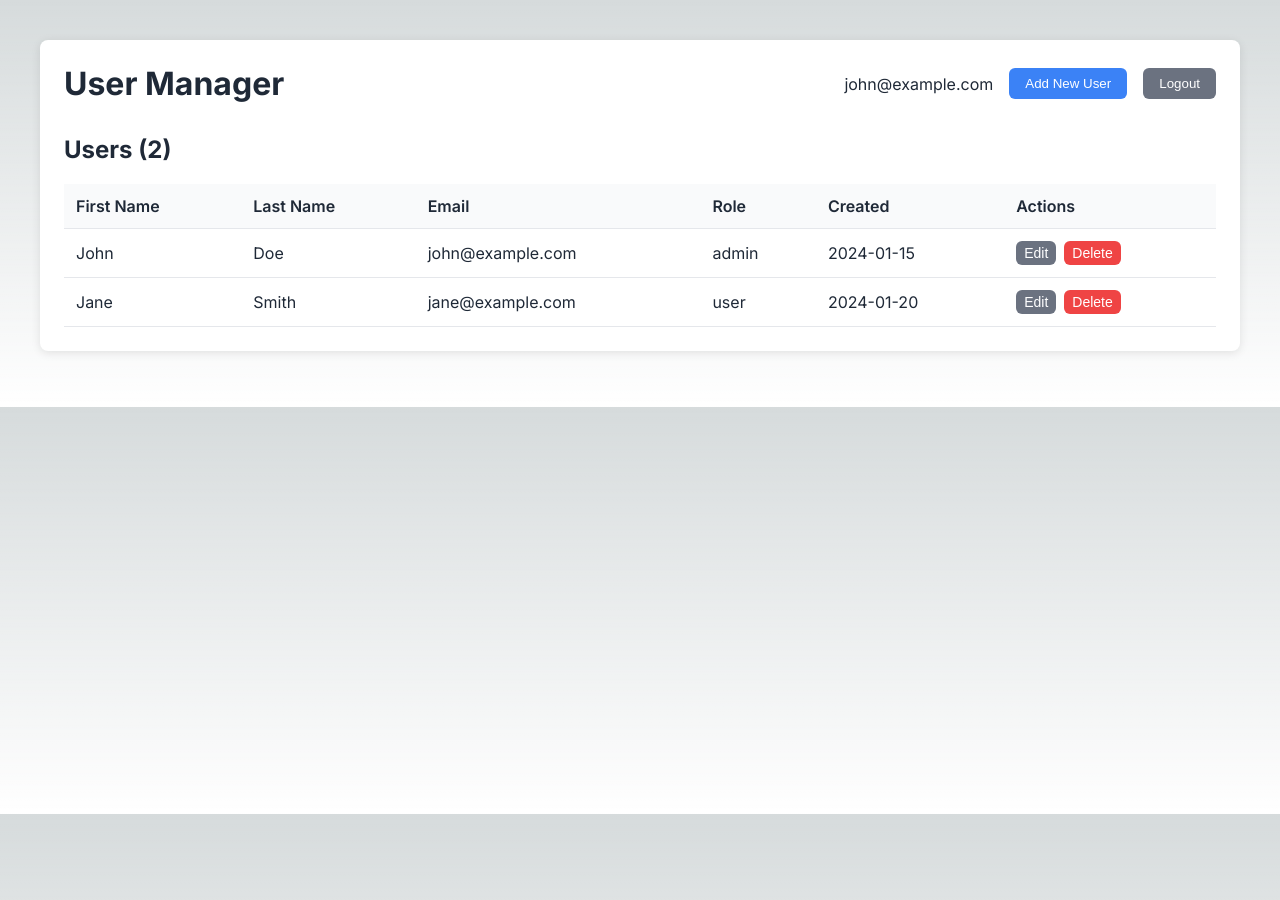
Home Page › when authenticated › can add a new user
This screenshot has width=1280, height=900.
Expected: the text "John" is shown, [64,228,241,277]
Click the button "Add New User" at point(1068, 84), box [1009,68,1127,99]
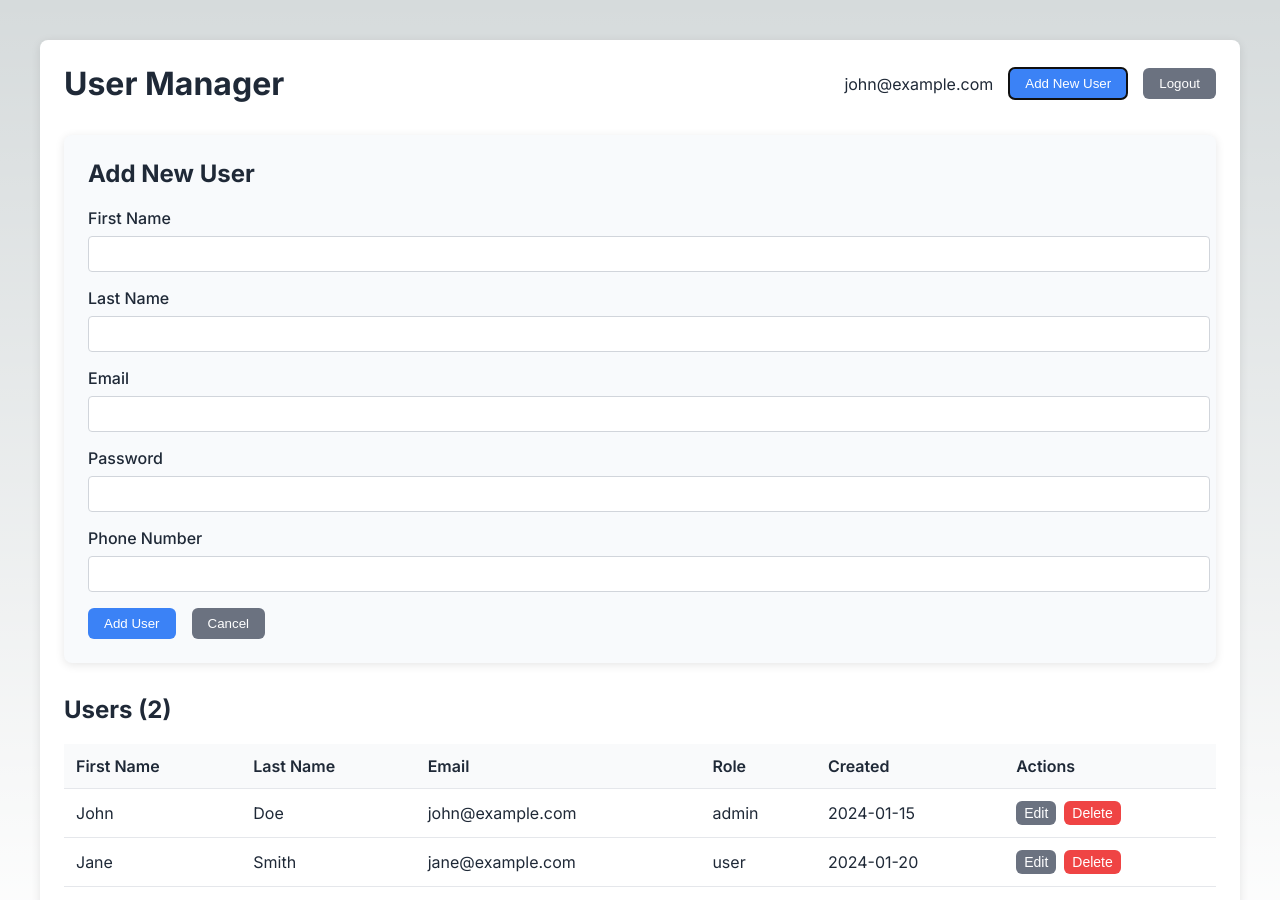
Type "Test" into the field labelled "First Name" at point(649, 254), box [88,236,1210,272]
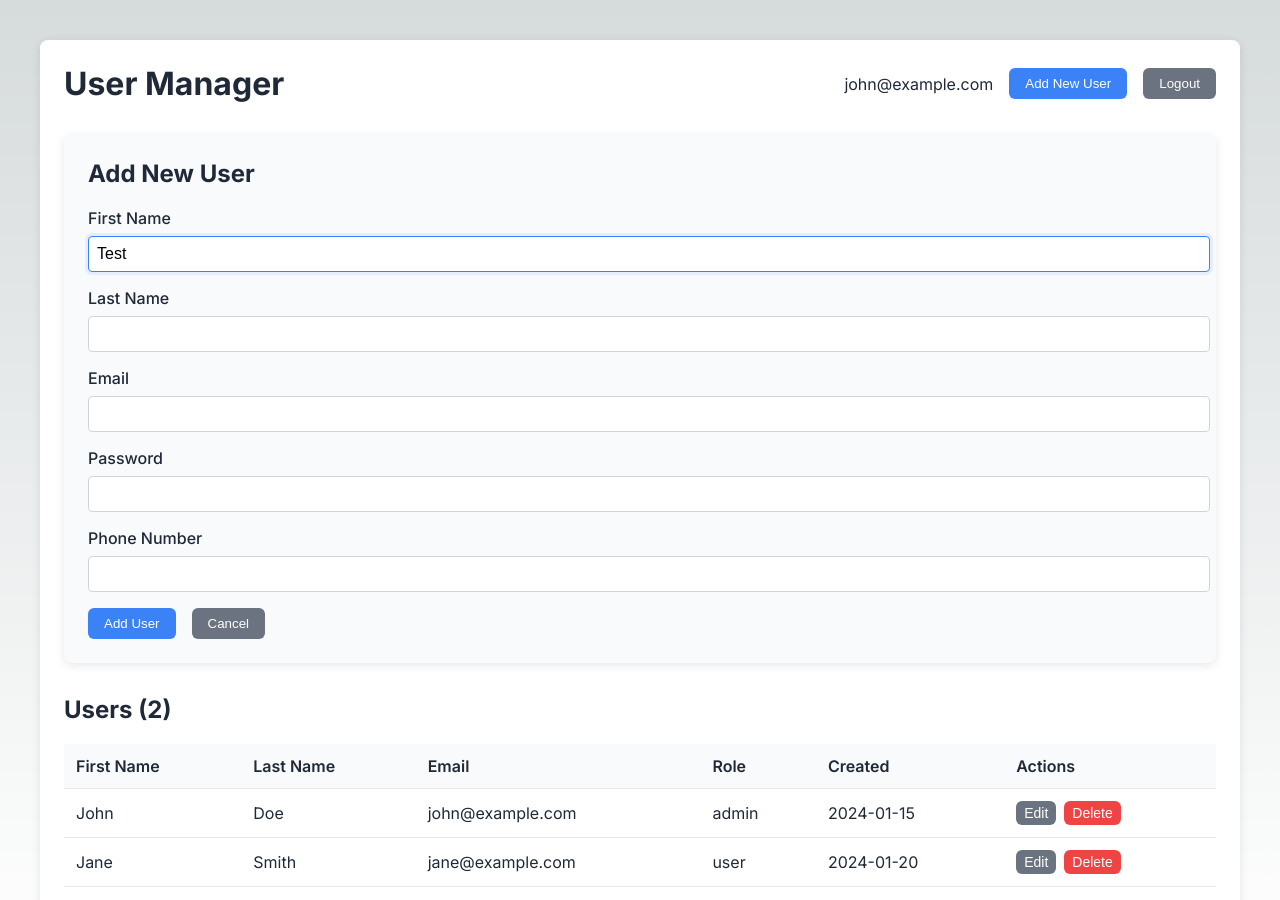
Type "User" into the field labelled "Last Name" at point(649, 334), box [88,316,1210,352]
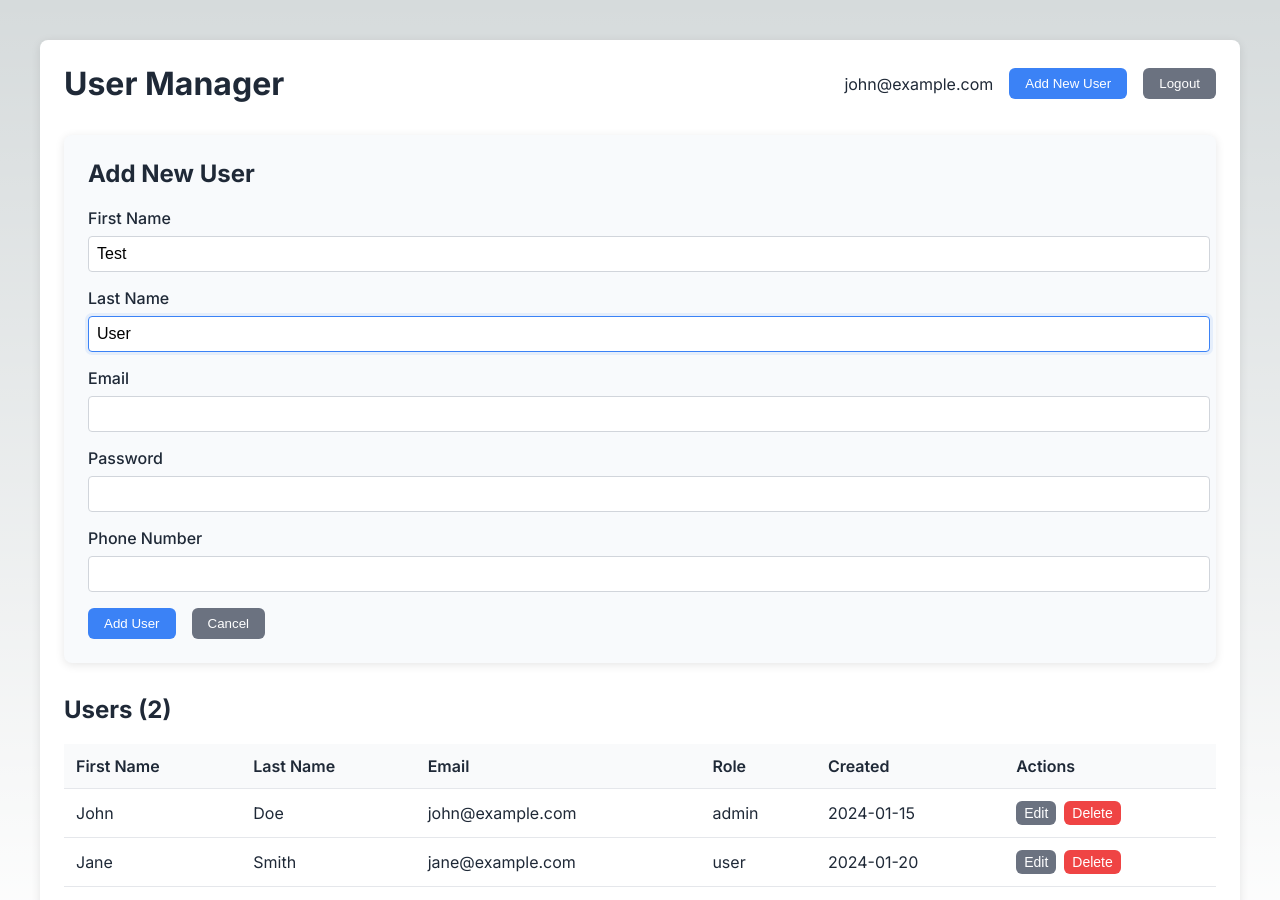
Type "test@example.com" into the field labelled "Email" at point(649, 414), box [88,396,1210,432]
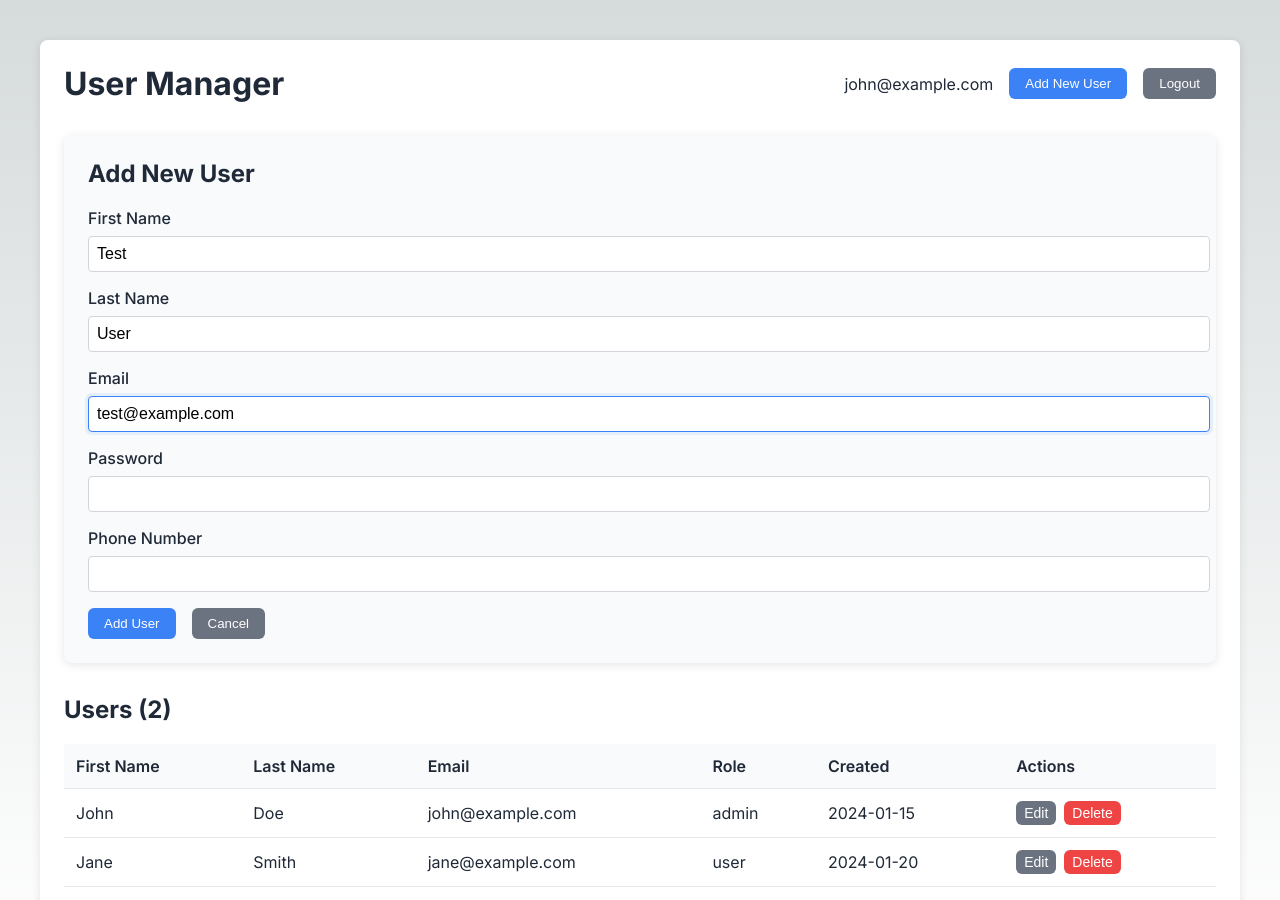
Type "secret123" into the password field labelled "Password" at point(649, 494), box [88,476,1210,512]
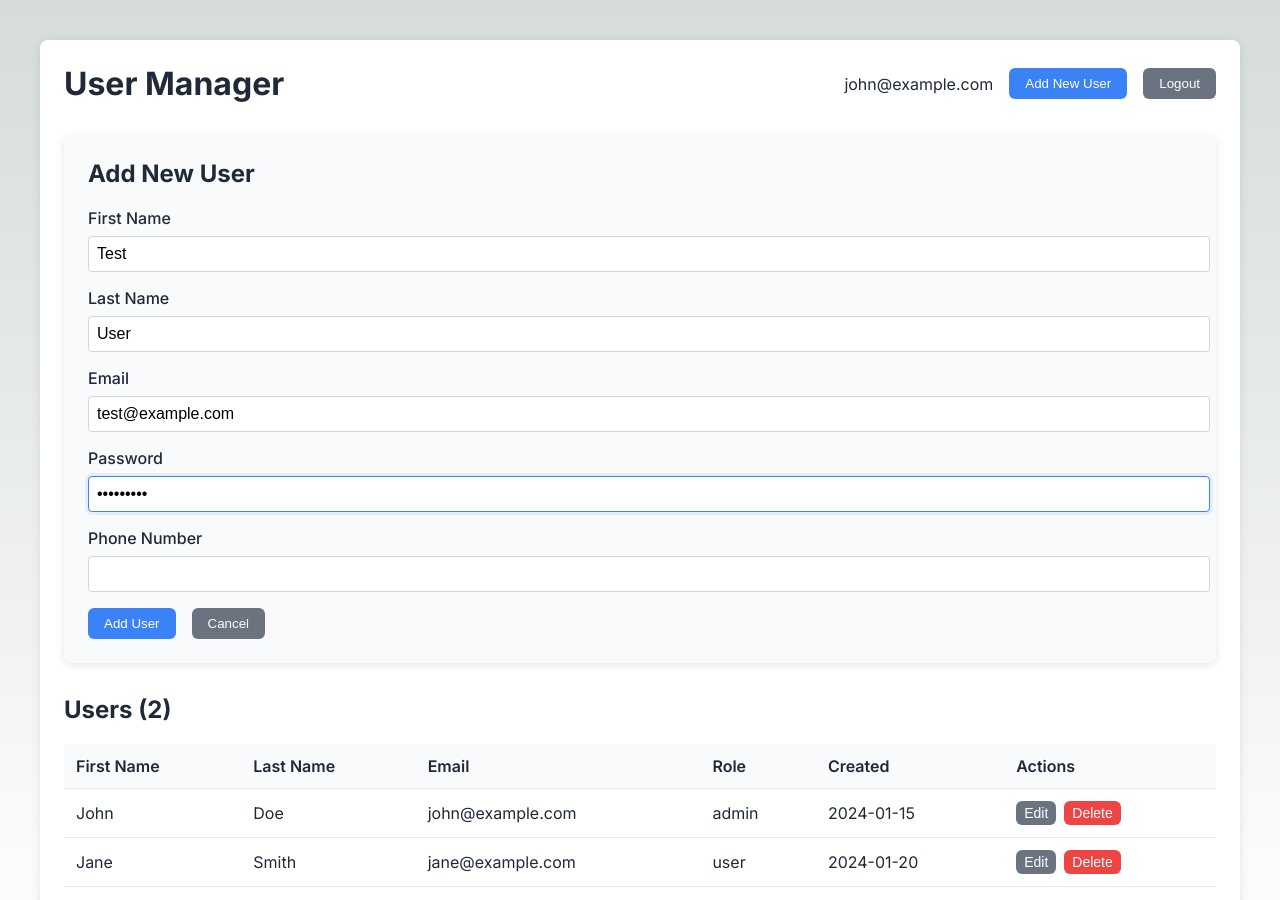
Click the button "Add User" at point(132, 623), box [88,608,176,639]
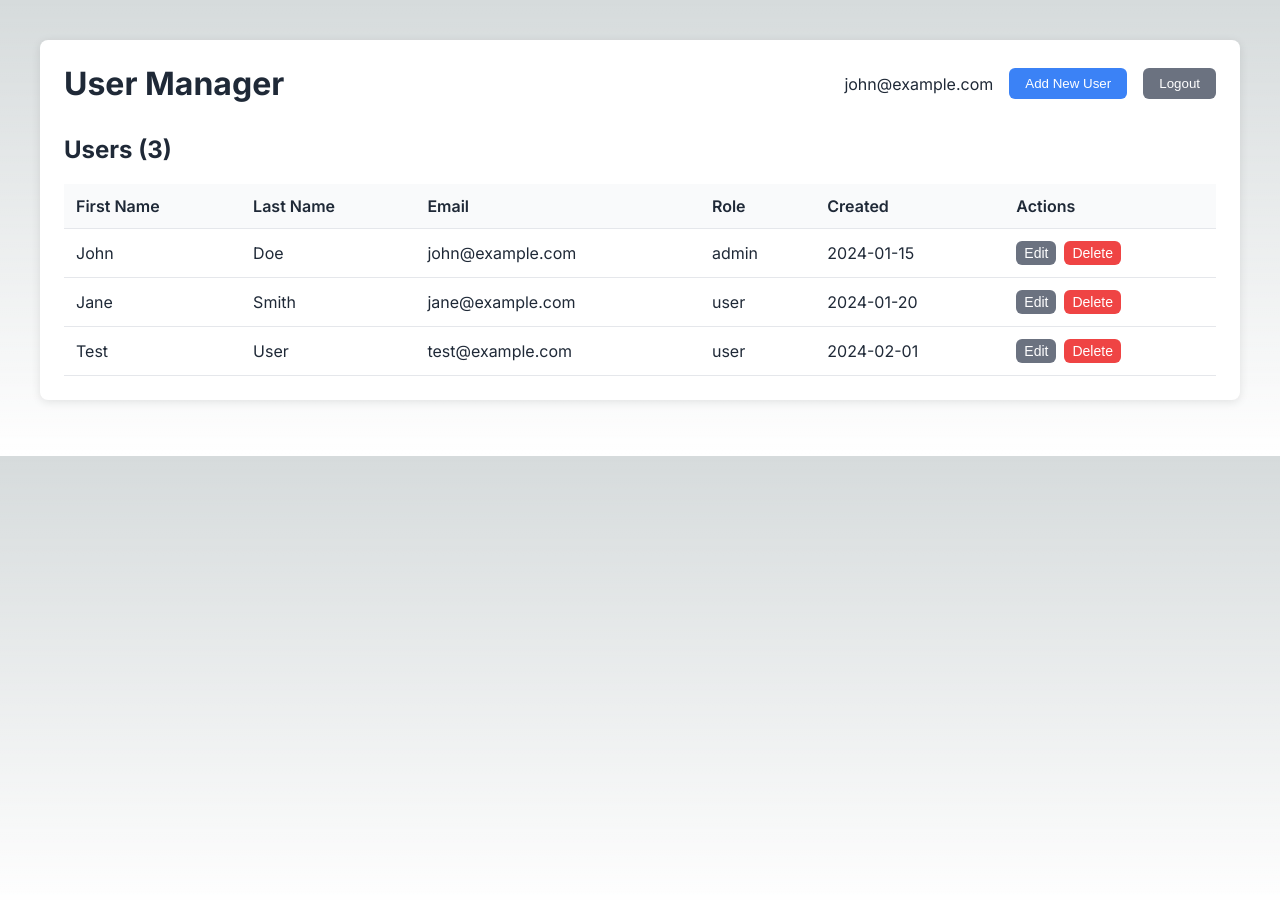
Now the text "test@example.com" is shown, box [415,326,700,375]
